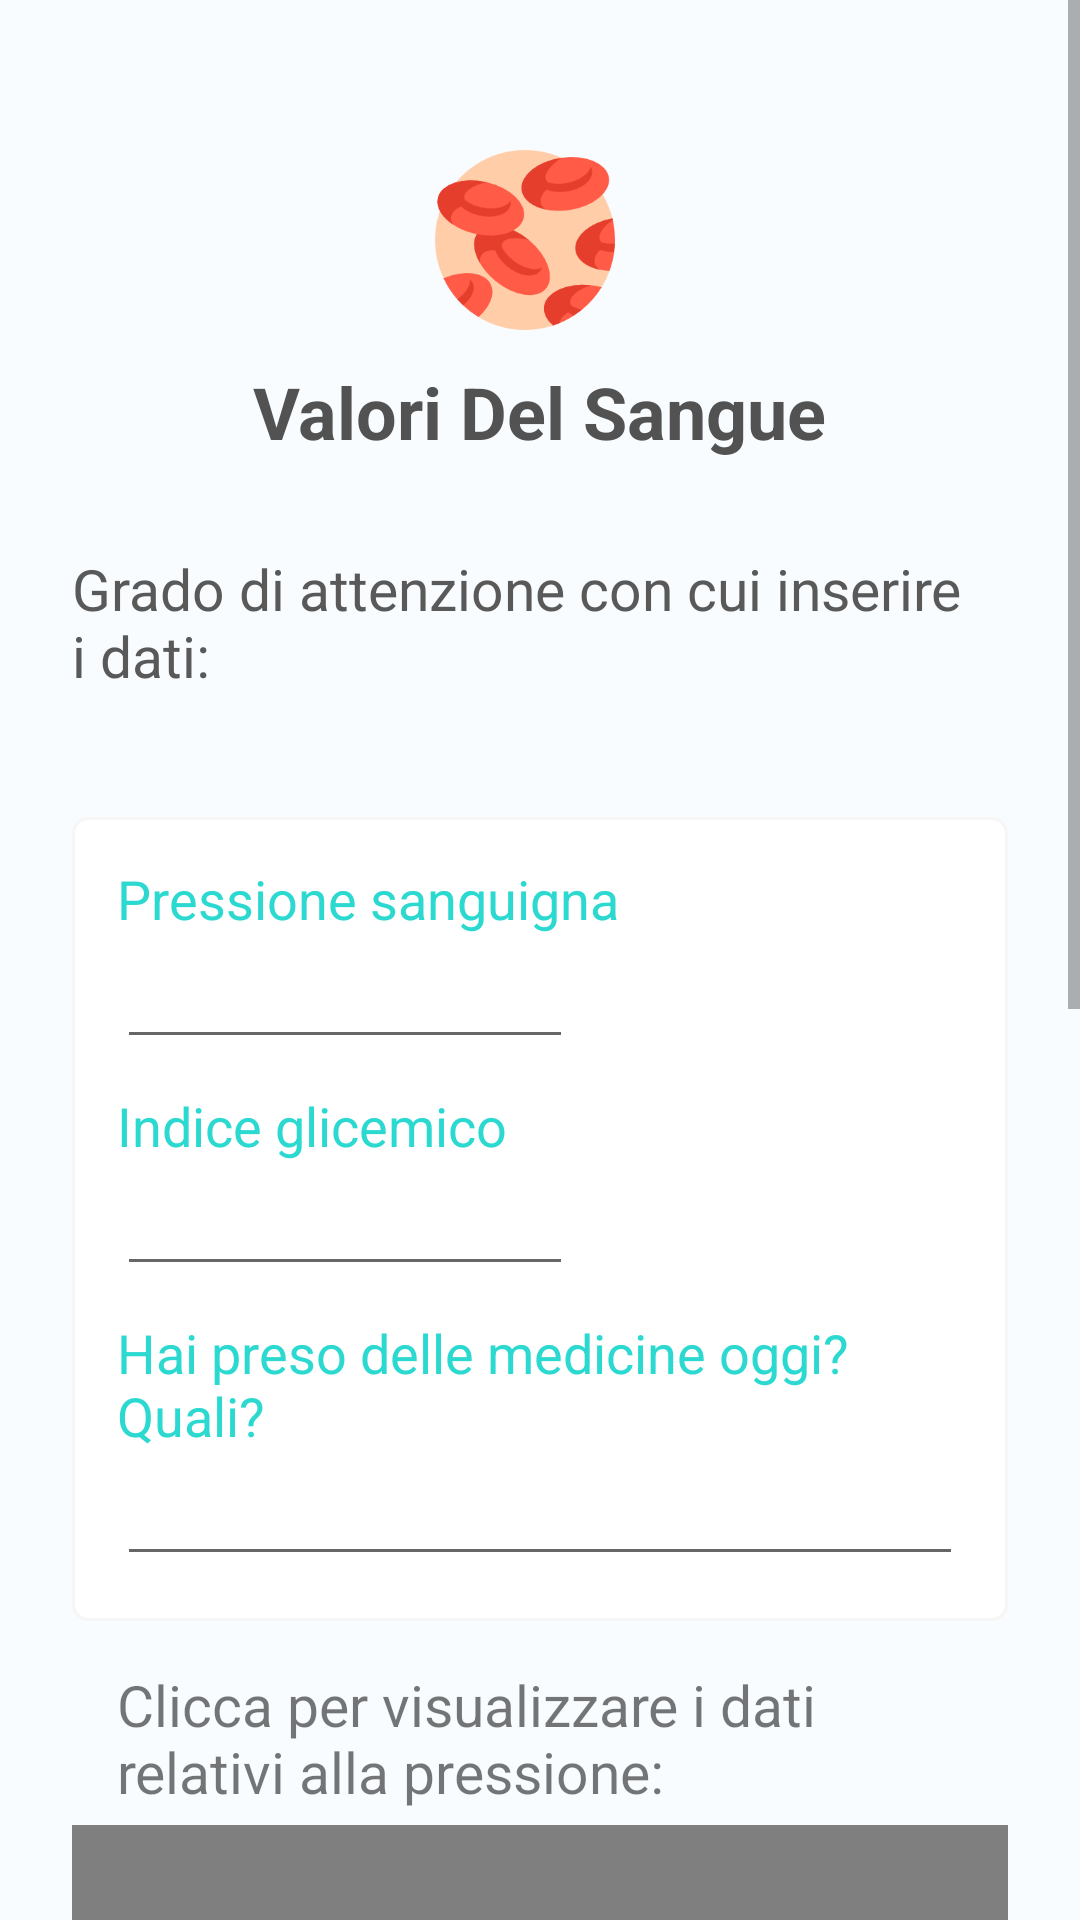

Point at icon controls on the screen. Image size 1080 × 1920, points as [x,y].
blood: [525,240]
